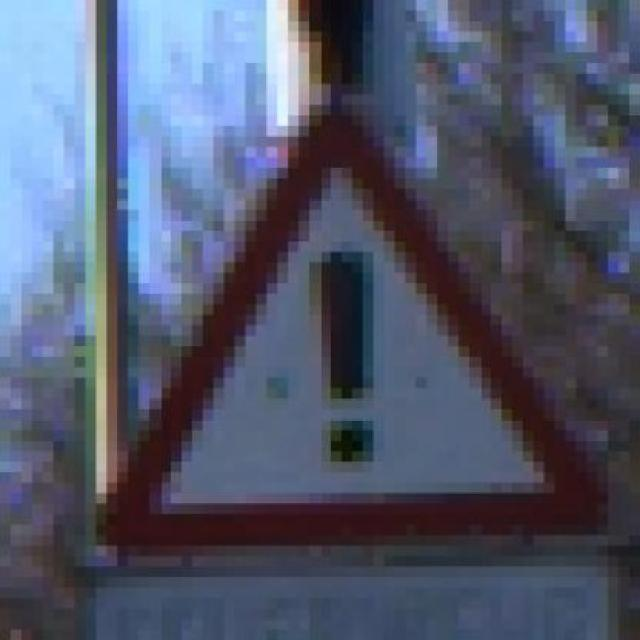Attention Please-: (53, 105, 619, 546)
